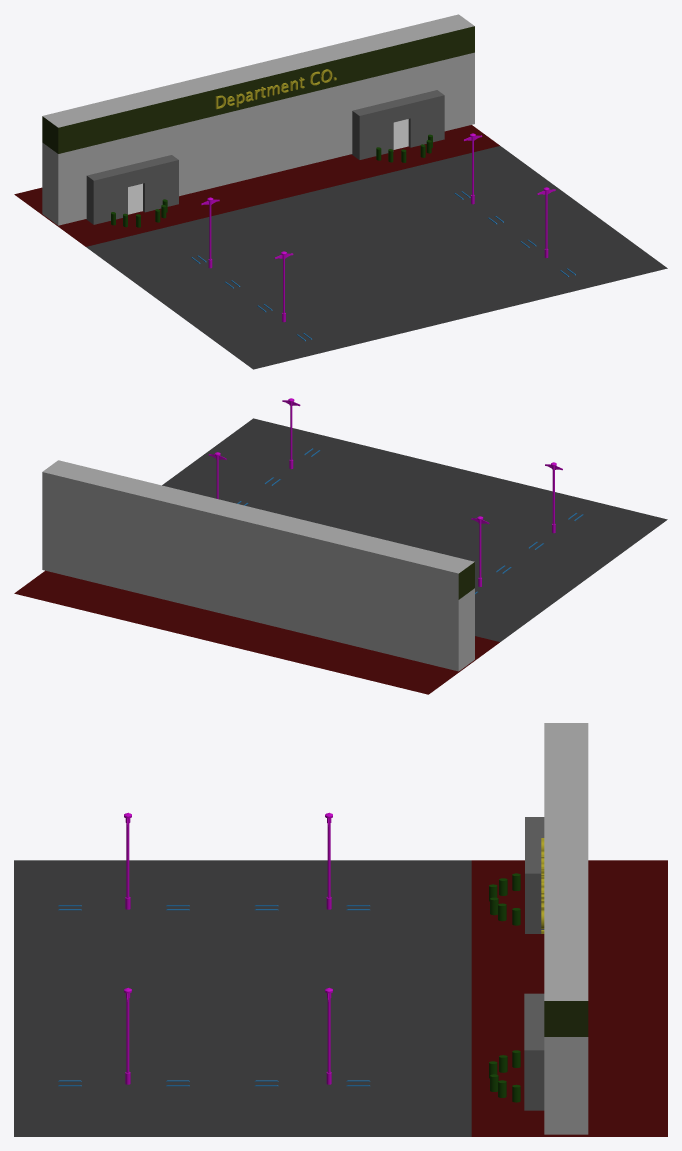
Rendered from SizeAOutside.fbx.
The picture shows the model from 3 angles, top to bottom: view 1: azimuth 30°, elevation 25°; view 2: azimuth 150°, elevation 25°; view 3: azimuth 270°, elevation 25°; orthographic projection. The views are drawn at different scales.
Visible parts, largest first — view 1: Ground, pCube17, pCube1, pCube4, typeMesh1; view 2: Ground, pCube17; view 3: Ground, pCube17, pCube1, pCube4.
Boxes of the visible parts, bbox=[...] form: Ground: bbox=[14, 125, 667, 369]; pCube17: bbox=[42, 14, 474, 225]; pCube1: bbox=[351, 90, 444, 159]; pCube4: bbox=[86, 155, 178, 224]; typeMesh1: bbox=[215, 69, 336, 109]; Ground: bbox=[14, 418, 667, 694]; pCube17: bbox=[42, 460, 474, 671]; Ground: bbox=[14, 860, 667, 1136]; pCube17: bbox=[544, 723, 588, 1134]; pCube1: bbox=[524, 993, 544, 1110]; pCube4: bbox=[525, 817, 544, 933].
Size of the model in its own units: 1603 by 397 by 1595.
